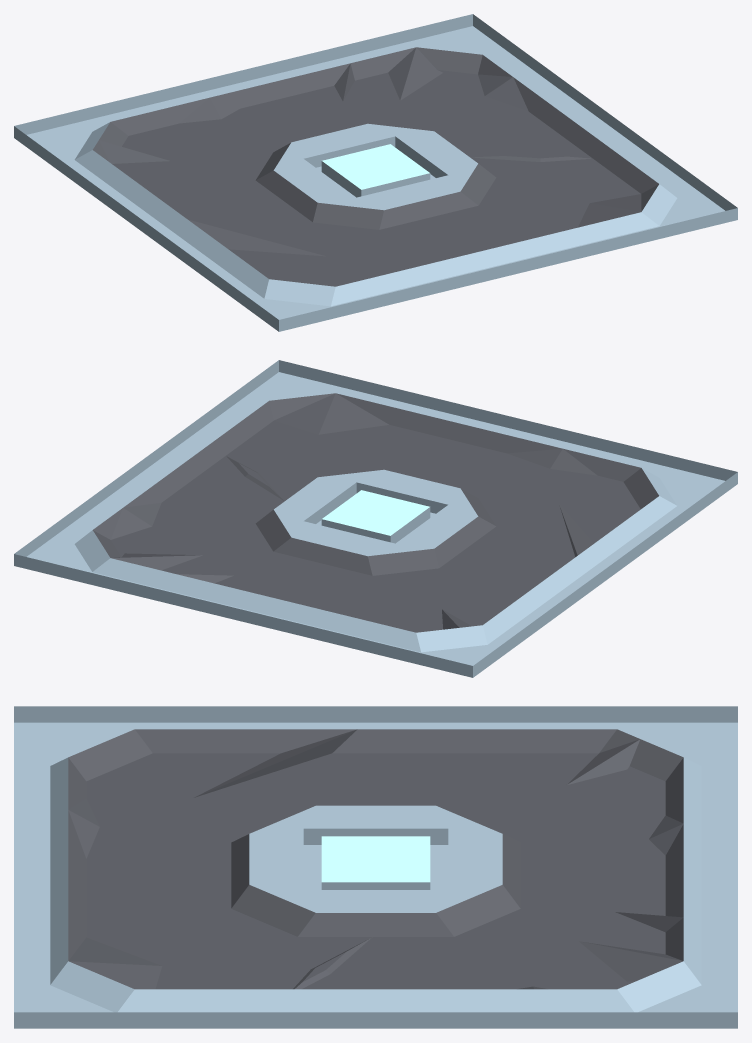
The model's file is Ceiling_Small.fbx.
3 renders of one model, top to bottom at view 1: azimuth 30°, elevation 25°; view 2: azimuth 150°, elevation 25°; view 3: azimuth 270°, elevation 25°, orthographic. The views are drawn at different scales.
Visible parts, largest first — view 1: Ceiling_Small; view 2: Ceiling_Small; view 3: Ceiling_Small.
Part boxes in pixels (box(x1,y1,x2,y2)): Ceiling_Small: box(14, 14, 737, 331); Ceiling_Small: box(14, 360, 737, 677); Ceiling_Small: box(14, 706, 737, 1028).
Bounding box in the file's own units: 4 × 0.1 × 4.
